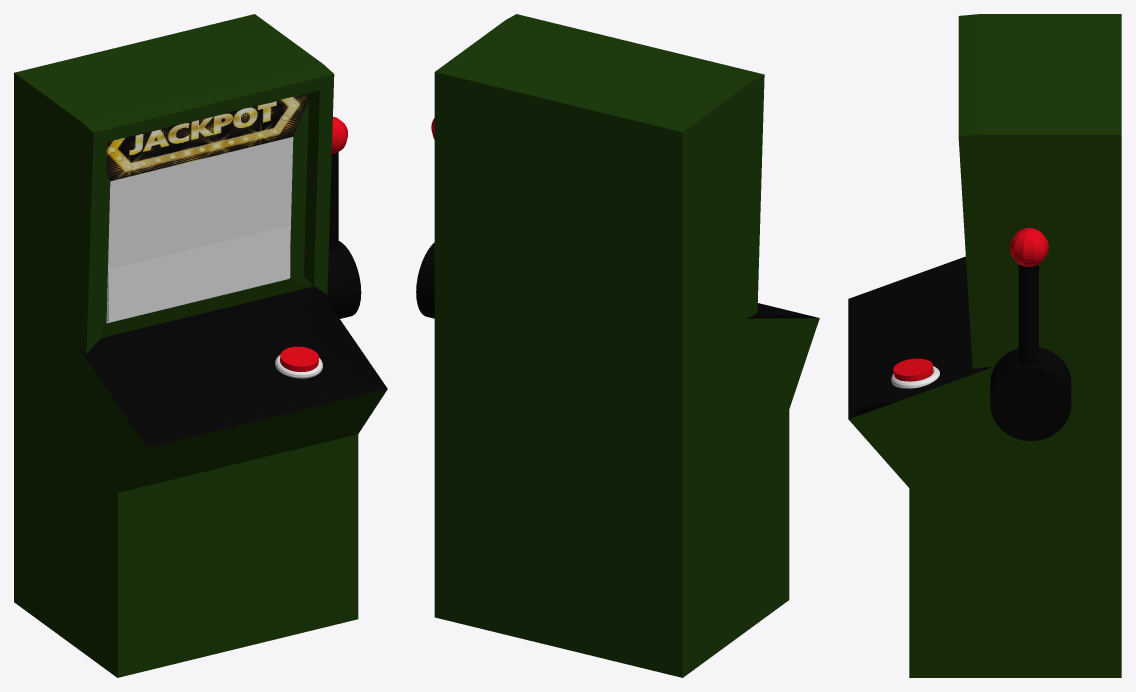
File: Tragaperrasverde.glb
3 views of the same model, side by side, from view 1: azimuth 30°, elevation 25°; view 2: azimuth 150°, elevation 25°; view 3: azimuth 270°, elevation 25° (orthographic). The views are drawn at different scales.
Parts seen in each view (by area): view 1: perraVerde, pantallaVerde, manillaVerde, bolaPalancaVerde, botonVerde; view 2: perraVerde, manillaVerde; view 3: perraVerde, manillaVerde, bolaPalancaVerde, botonVerde, Toroide.001.
Boxes of the visible parts, left/top/right/bottom form: perraVerde: left=14, top=14, right=387, bottom=677; pantallaVerde: left=107, top=225, right=290, bottom=321; manillaVerde: left=320, top=241, right=361, bottom=318; bolaPalancaVerde: left=328, top=117, right=347, bottom=252; botonVerde: left=280, top=346, right=318, bottom=371; perraVerde: left=434, top=14, right=819, bottom=677; manillaVerde: left=416, top=242, right=434, bottom=318; perraVerde: left=848, top=14, right=1121, bottom=677; manillaVerde: left=990, top=347, right=1071, bottom=440; bolaPalancaVerde: left=1009, top=228, right=1048, bottom=365; botonVerde: left=893, top=358, right=933, bottom=381; Toroide.001: left=891, top=366, right=939, bottom=388.
Bounding box in the file's own units: 22.07 × 39.03 × 17.77.
Materials: 7 (1 with a texture image).
